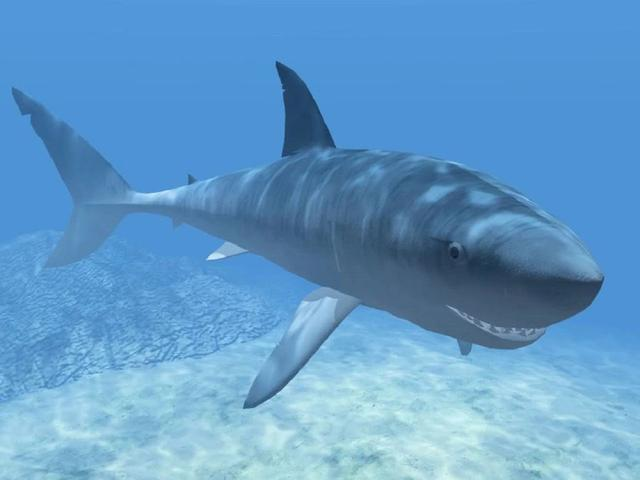fish: (1, 61, 606, 413)
